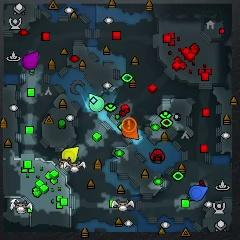Other: (122, 118, 137, 133)
p1: (189, 184, 207, 201)
p2: (89, 93, 105, 112)
p3: (22, 51, 39, 69)
p4: (62, 146, 79, 162)
p5: (122, 123, 139, 139)
